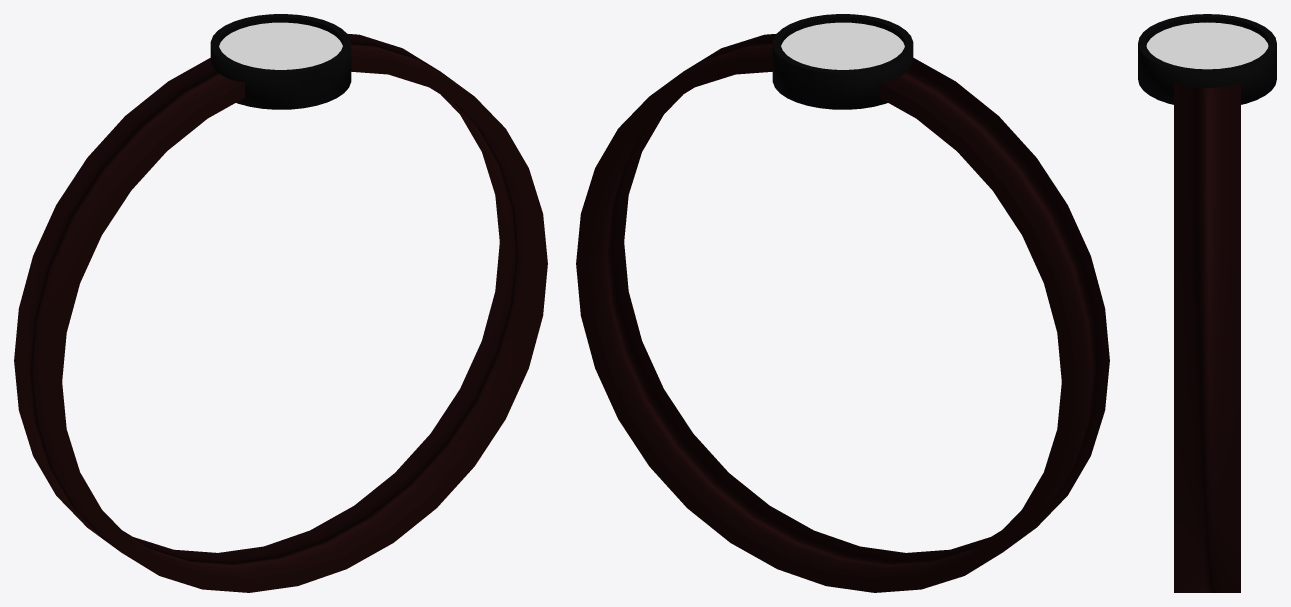
Rendered from watch.fbx.
The picture shows the model from 3 angles, left to right: view 1: azimuth 30°, elevation 25°; view 2: azimuth 150°, elevation 25°; view 3: azimuth 270°, elevation 25°; orthographic projection.
Visible parts, largest first — view 1: Watch; view 2: Watch; view 3: Watch.
Part boxes in pixels (box(x1,y1,x2,y2)): Watch: box(14, 14, 547, 592); Watch: box(576, 14, 1109, 592); Watch: box(1138, 14, 1276, 592).
Size of the model in its own units: 200 by 203 by 48.77.
